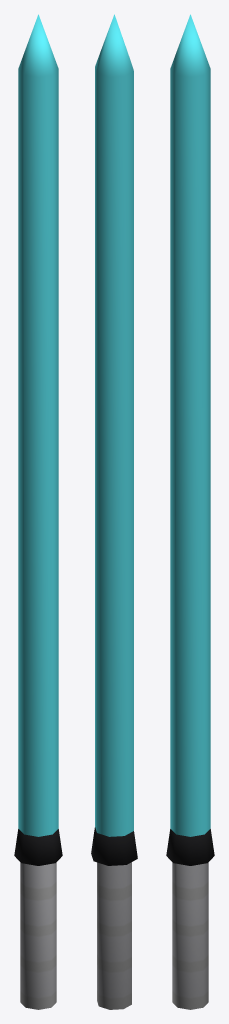
The model's file is epee-energie.glb.
The picture shows the model from 3 angles, left to right: view 1: azimuth 90°, elevation 25°; view 2: azimuth 210°, elevation 25°; view 3: azimuth 270°, elevation 25°; orthographic projection.
Visible parts, largest first — view 1: epee-energie; view 2: epee-energie; view 3: epee-energie.
Part boxes in pixels (x1,y1,x2,y2): epee-energie: [14, 14, 62, 1009]; epee-energie: [91, 14, 137, 1009]; epee-energie: [166, 14, 214, 1009].
Bounding box in the file's own units: 0.048 × 1.08 × 0.048.
Materials: 1 (1 with a texture image).
